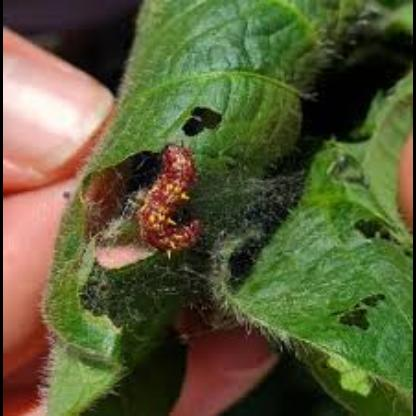oruga: (139, 136, 207, 260)
